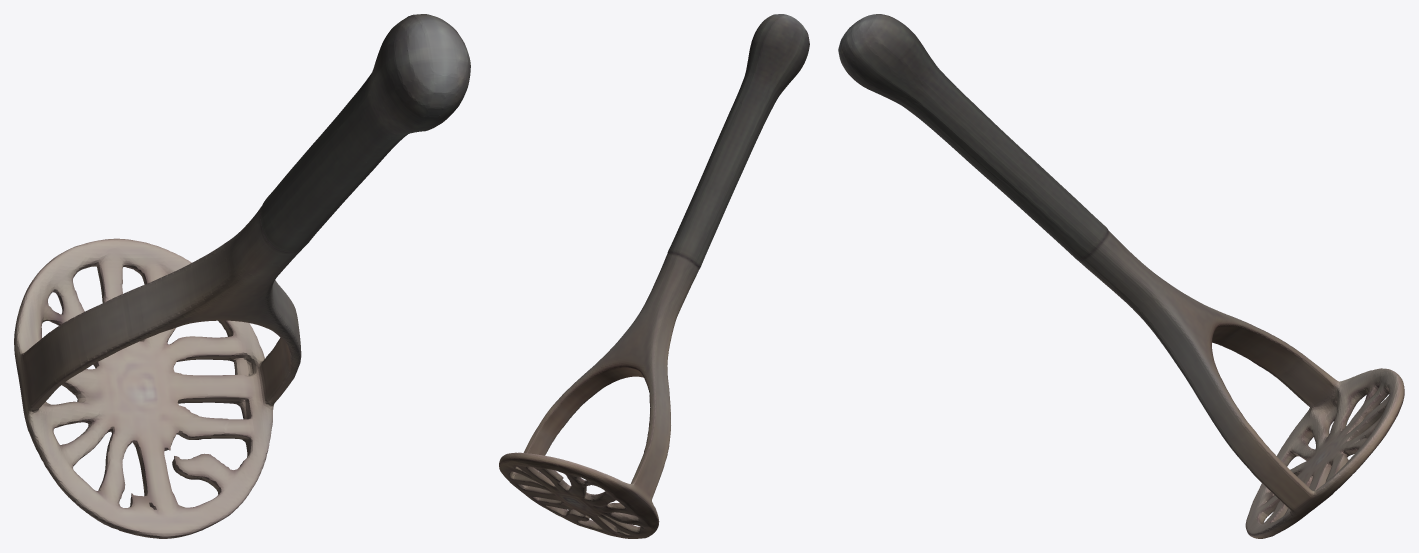
The model's file is frame_0002_source_000002_object.glb.
The picture shows the model from 3 angles, left to right: view 1: azimuth 30°, elevation 25°; view 2: azimuth 150°, elevation 25°; view 3: azimuth 270°, elevation 25°; orthographic projection. The views are drawn at different scales.
Parts seen in each view (by area): view 1: world; view 2: world; view 3: world.
Part boxes in pixels (<box>): world: <box>14,14,470,538</box>; world: <box>499,14,809,538</box>; world: <box>838,14,1404,538</box>.
Bounding box in the file's own units: 0.0743 × 0.2098 × 0.2144.
